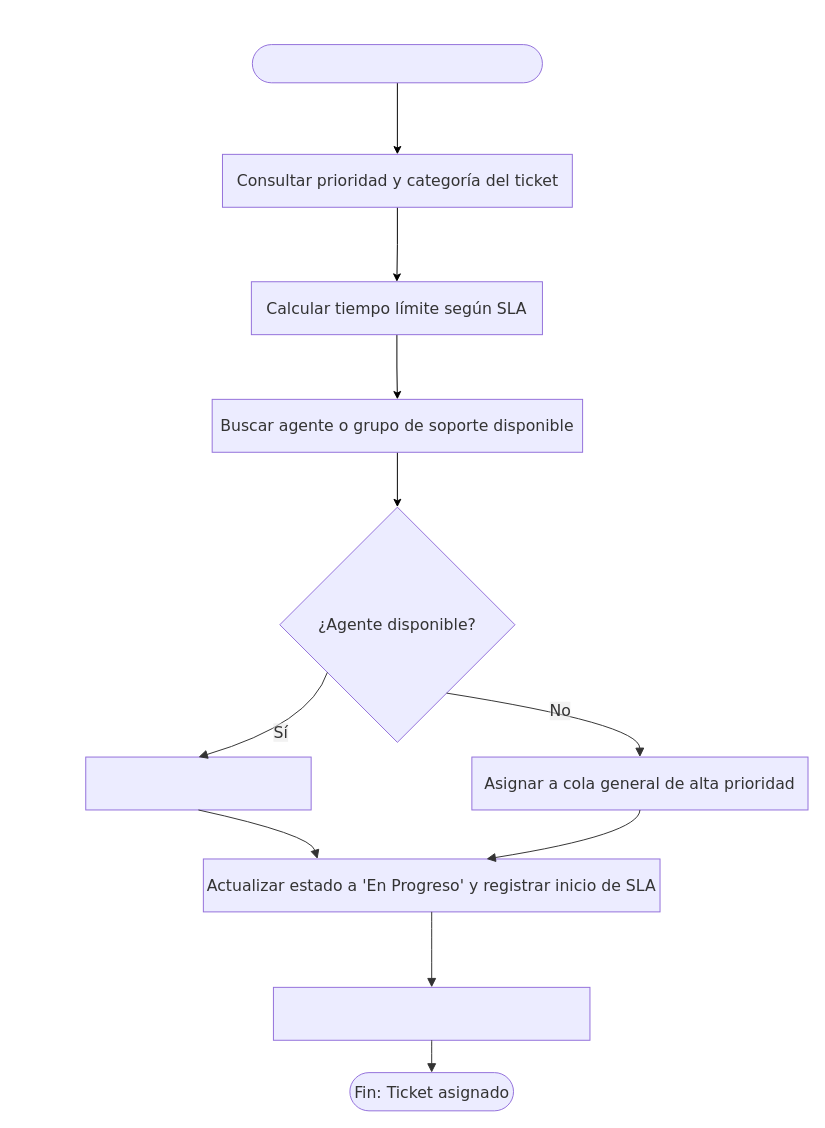
This 825x1128 diagram has some shape labels left out. The shapes that lost their labels are listed below. From the top down, each one's centre as x and y in pixels, then its label:
At point 396,63: "Inicio: Ticket pendiente de asignación".
At point 198,783: "Asignar ticket al agente".
At point 431,1013: "Enviar notificación al agente/equipo".
